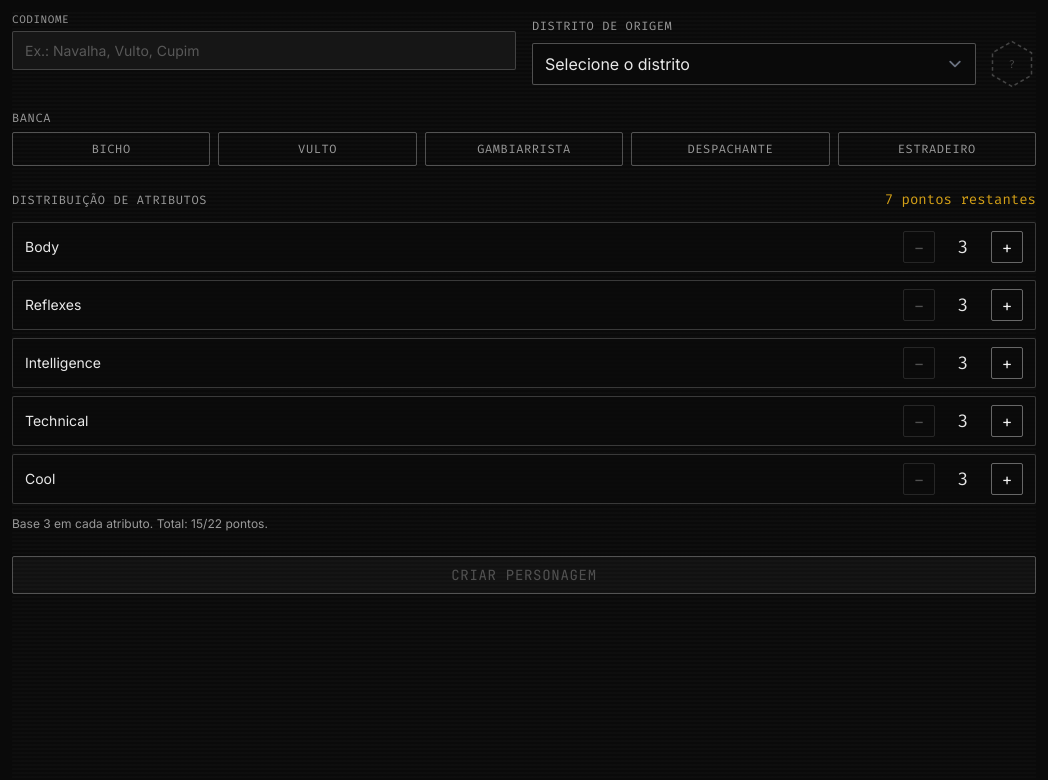
Test: CharacterForm › shows the banca phrase and primary attribute when a banca is selected
This screenshot has width=1048, height=780.
Expected: the text "Atributo primário:" is not shown
Click the button "Vulto" at x=318, y=149, box [218,132,417,166]
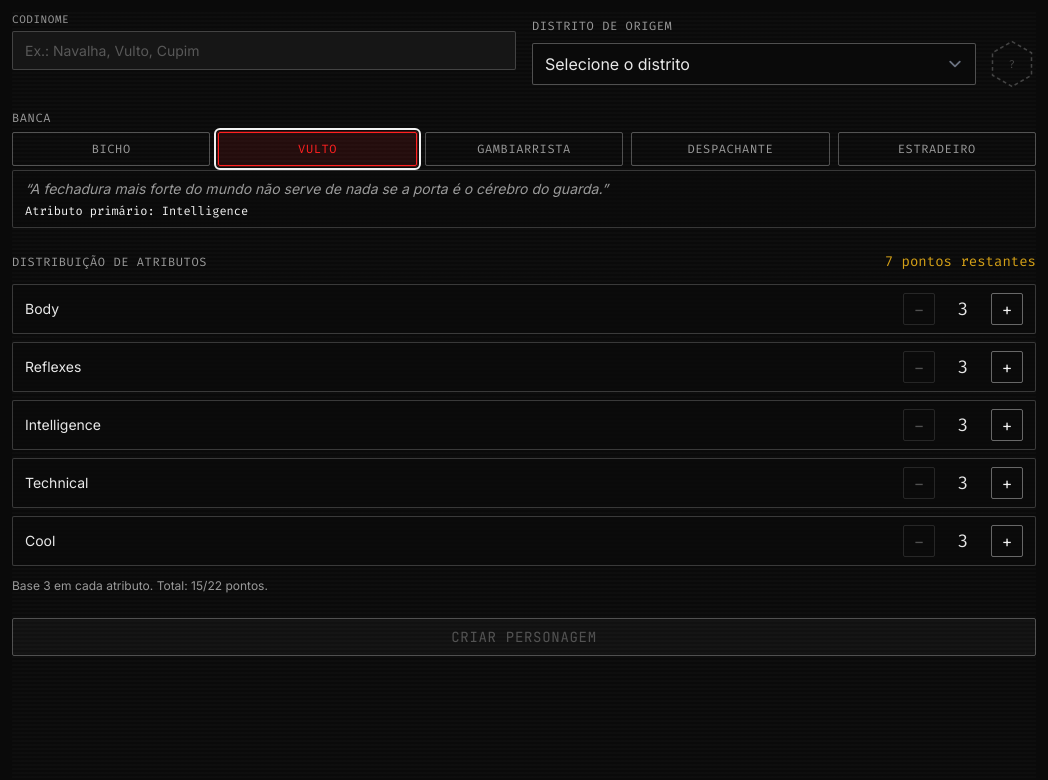
Expected: the text "A fechadura mais forte do mundo não serve de nada se a porta é o cérebro do guarda" is shown, [30,180,602,197]
Expected: the text "Atributo primário: Intelligence" is shown, [25,203,248,219]
